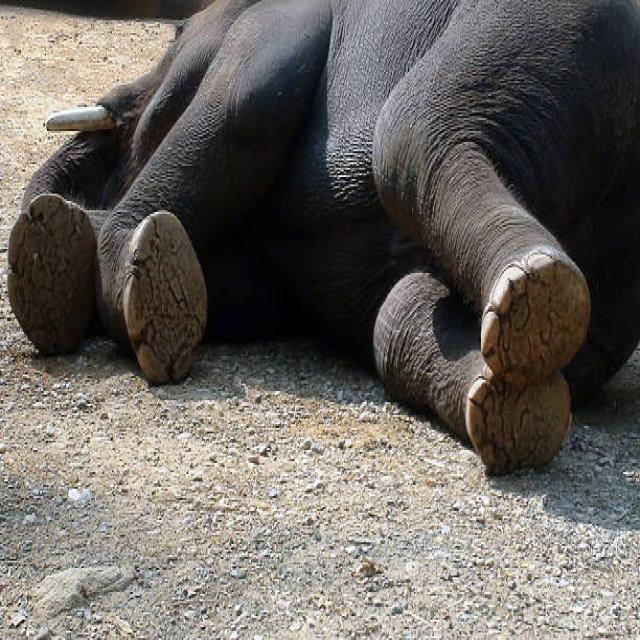Elephant: (5, 4, 640, 466)
